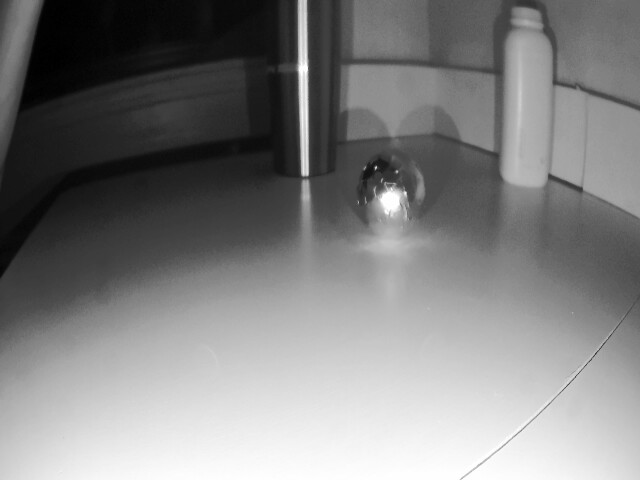black: (355, 146, 430, 240)
